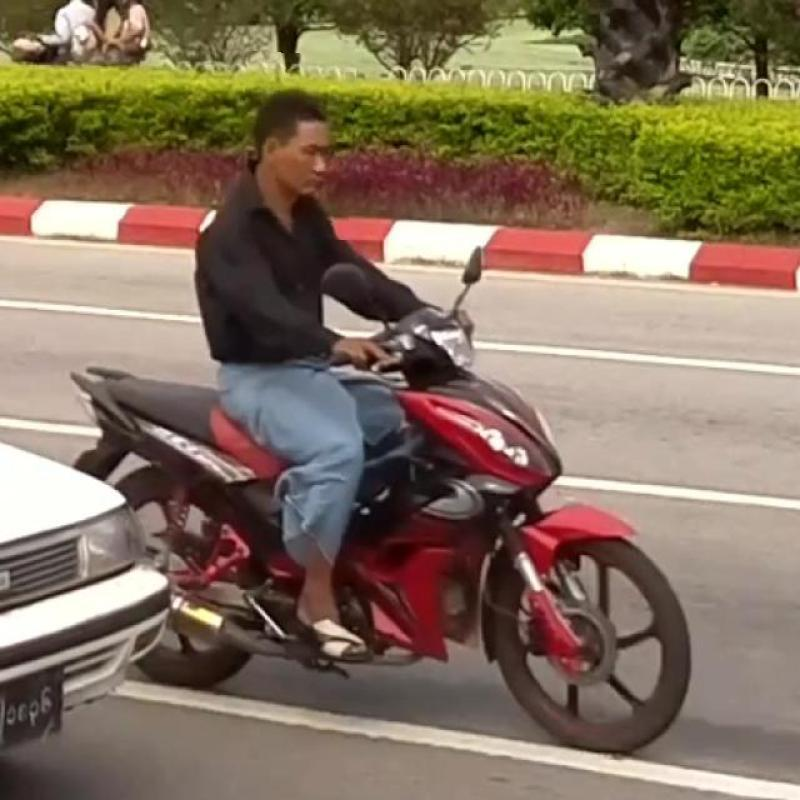nohelmet: (240, 52, 355, 239)
